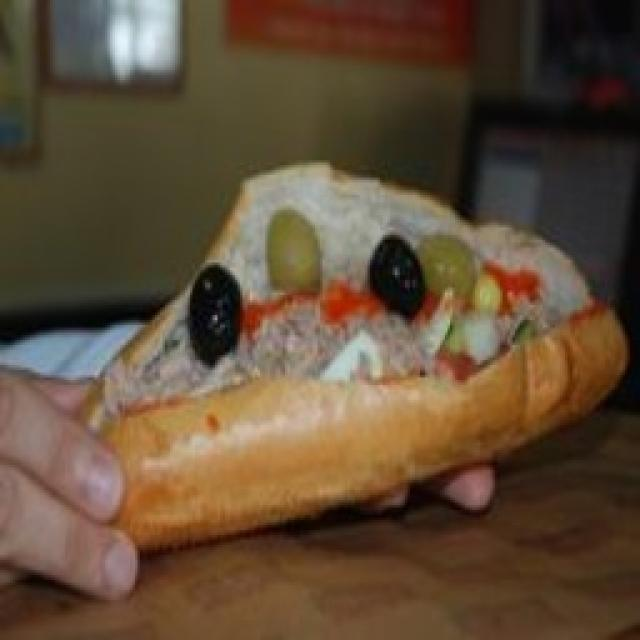Frecasse: (0, 162, 630, 602)
